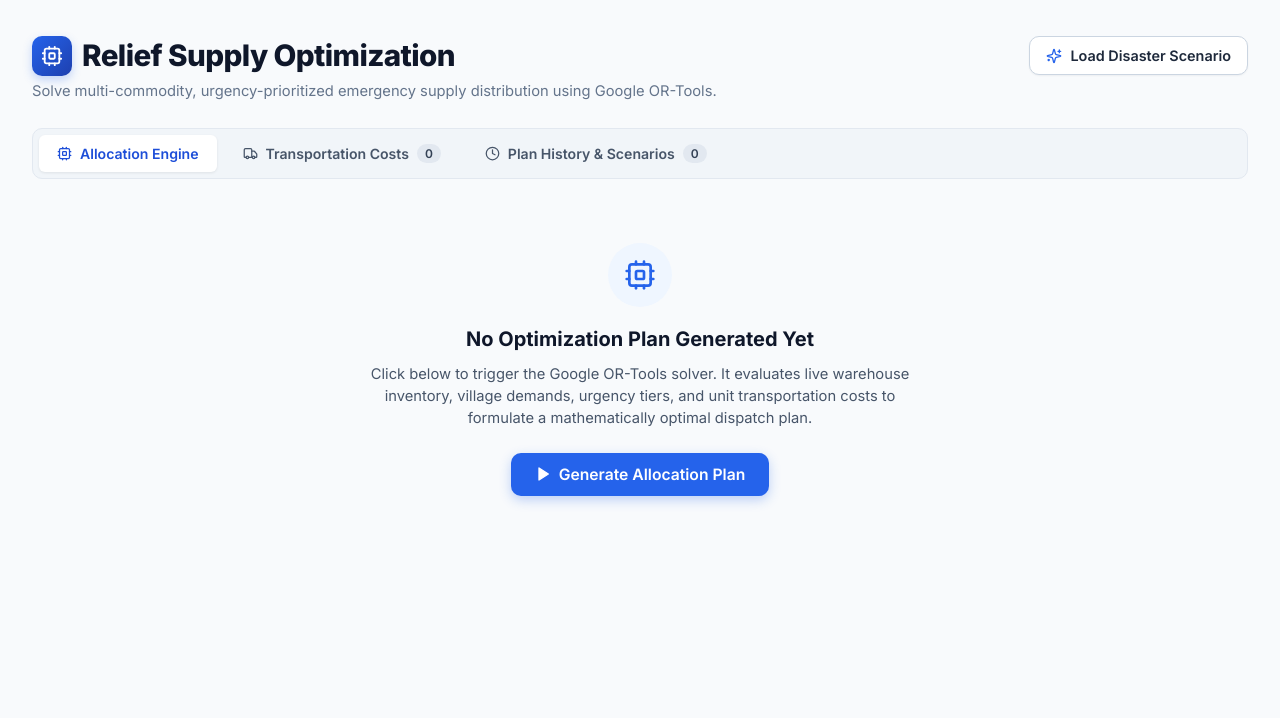
Test: Optimization Engine Page (OptimizationPage.jsx) › Historical Plan Inspection & Consistency › inspecting historical Run 5 displays ₹652,570.60, 10 allocations, and read-only inspection banner
The image size is (1280, 718).
// Switch to History sub-tab
Click the button "Plan History & Scenarios 0".
click(596, 153)  # box x1=467 y1=134 x2=725 y2=172
(page scrolled)
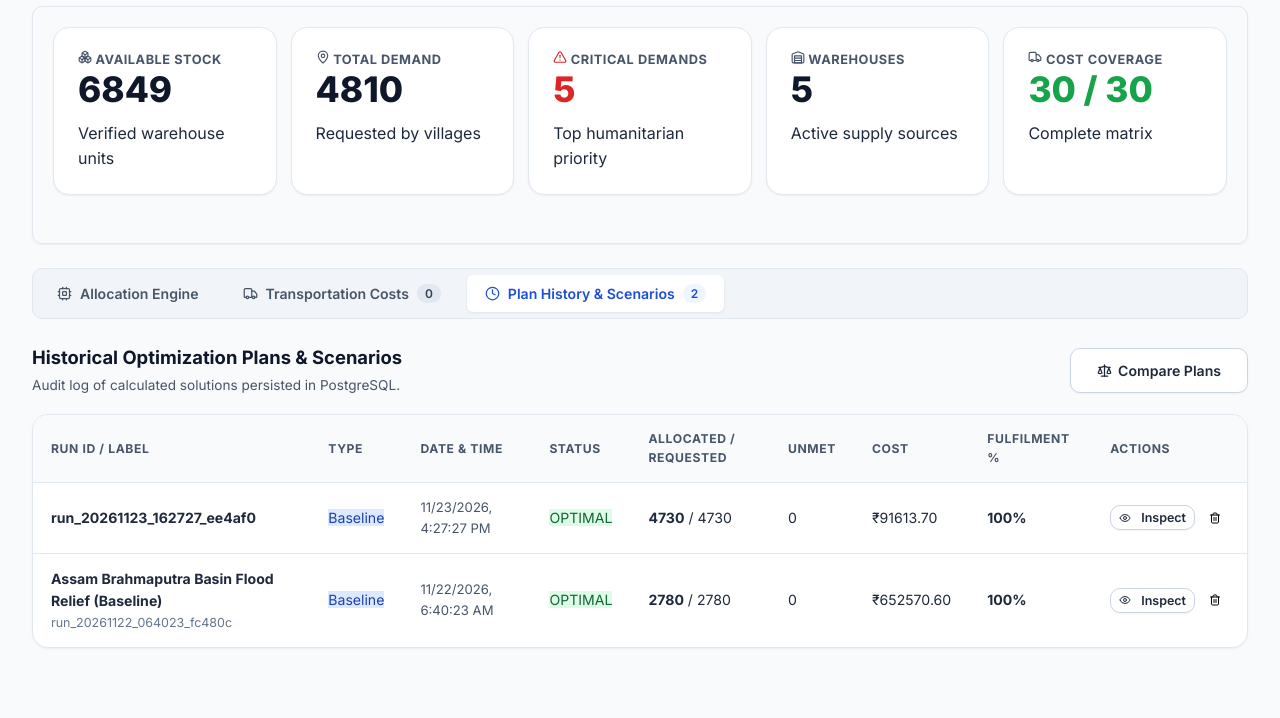
Expected: the text "run_20261122_064023_fc480c" is shown, x1=51 y1=615 x2=232 y2=630
// Find Inspect button for Run 5
Click the button "Inspect" in the row of "11/22/2026, 6:40:23 AM".
click(1153, 600)  # box x1=1110 y1=588 x2=1195 y2=613
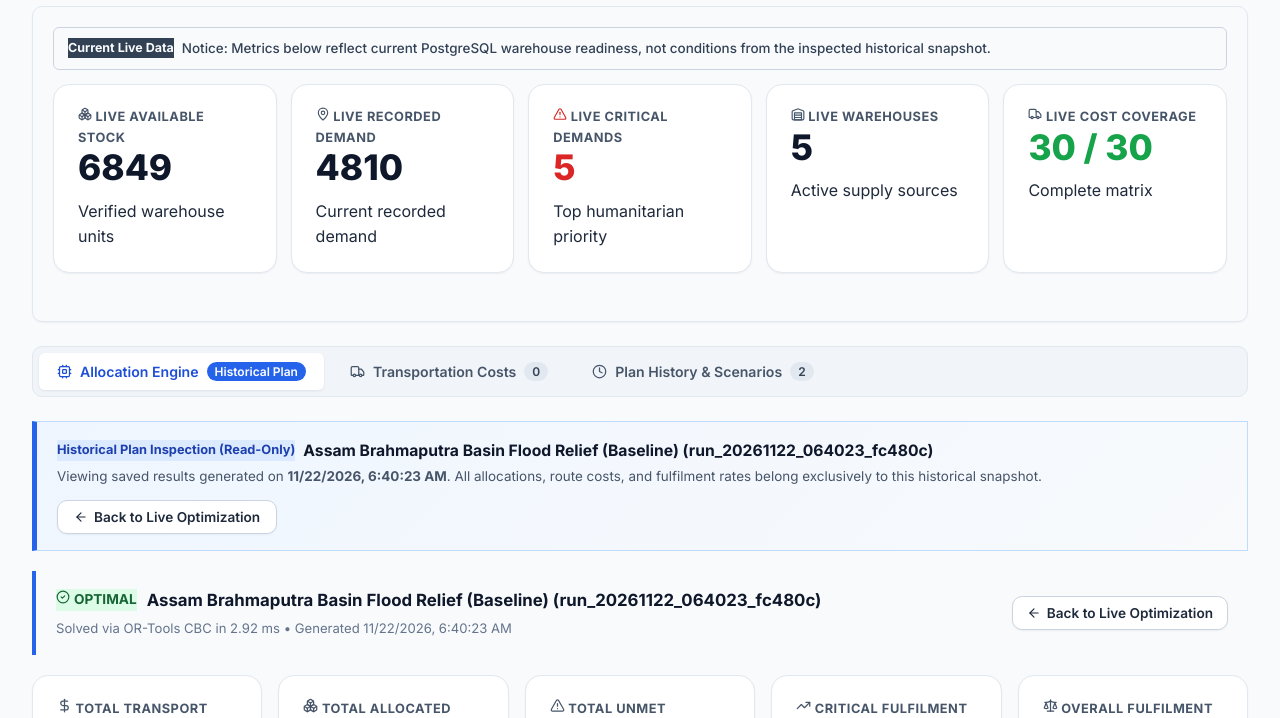
Expected: the text "Historical Plan Inspection (Read-Only)" is shown, x1=57 y1=440 x2=295 y2=461
Expected: the text "Assam Brahmaputra Basin Flood Relief" next to "Historical Plan Inspection (Read-Only)" is shown, x1=303 y1=441 x2=933 y2=460
Expected: the text "All allocations, route costs, and fulfilment rates belong exclusively to this historical snapshot" is shown, x1=447 y1=468 x2=1042 y2=484
